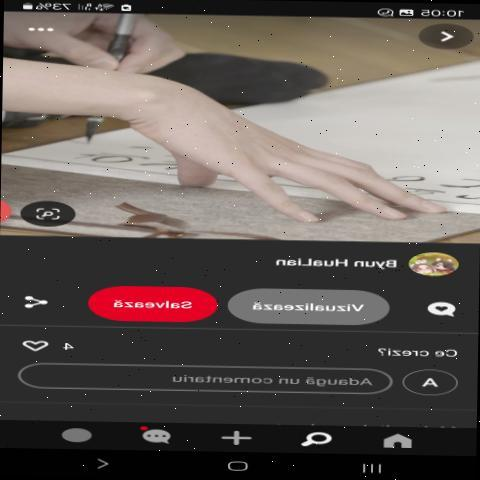Hands: (74, 53, 461, 237)
